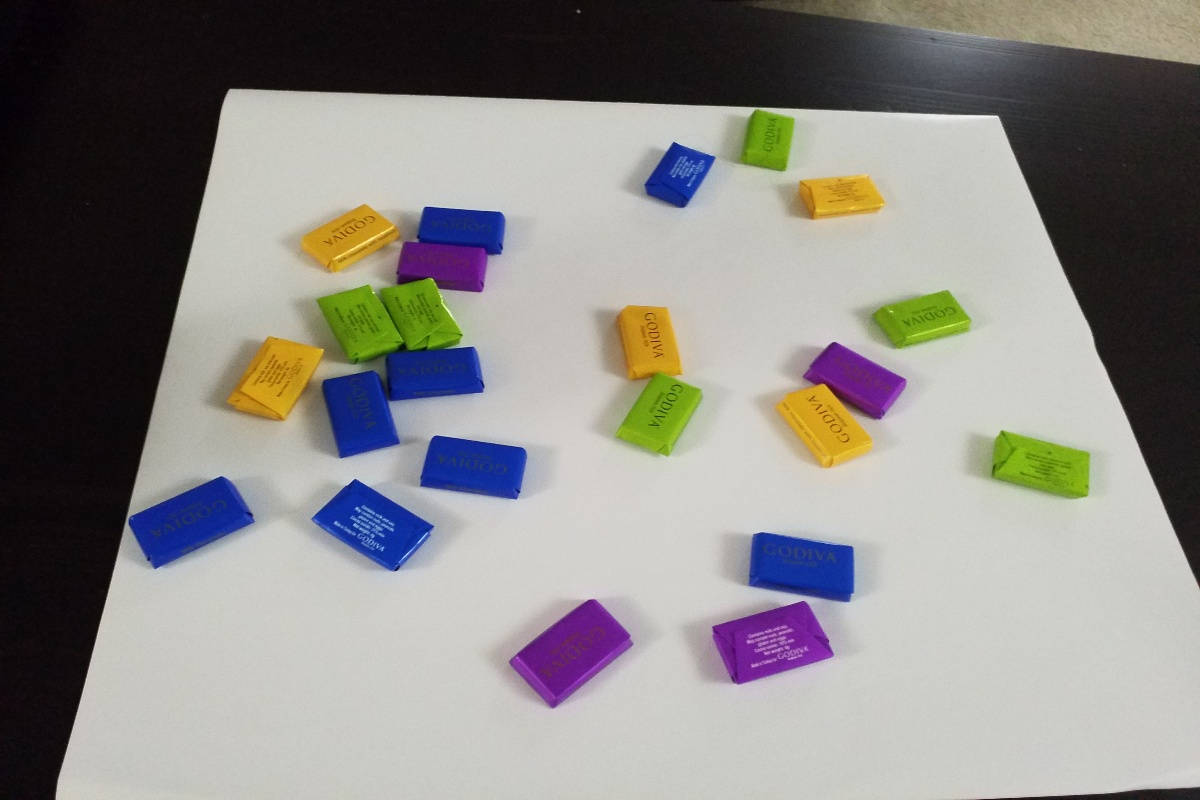chocolate_blue: (299, 476, 445, 583), (140, 470, 267, 583), (739, 516, 879, 609), (409, 424, 545, 506), (628, 138, 729, 226)
chocolate_green: (974, 421, 1103, 505), (615, 379, 710, 462), (870, 290, 982, 354), (727, 110, 814, 182)
chocolate_purple: (486, 591, 650, 714), (700, 598, 847, 691)
chocolate_yellow: (221, 332, 322, 435), (291, 193, 403, 279), (790, 165, 902, 240), (597, 302, 695, 387)
